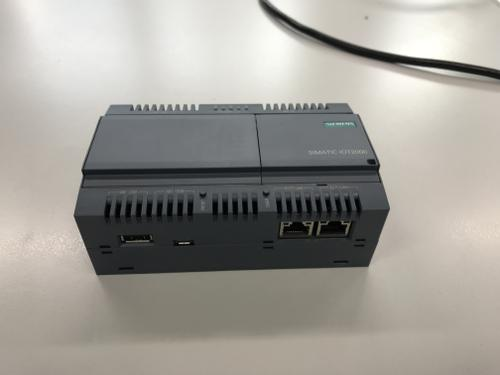device: (73, 103, 391, 277)
